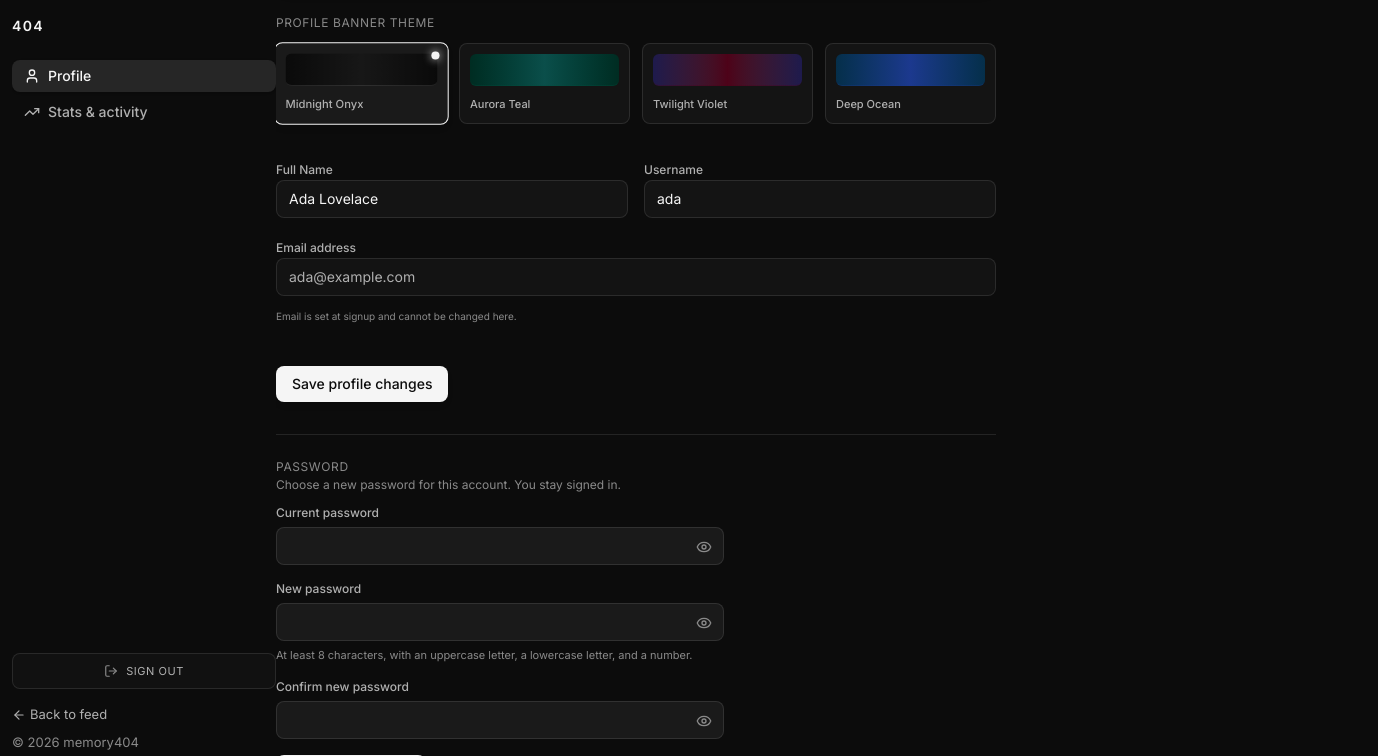
Scenario: settings actions after the session expires › explains when the profile save never reaches the server
This screenshot has width=1378, height=756.
(page scrolled)
Expected: the field showing "Ada Lovelace" is shown, [276, 180, 628, 218]
Click the button "Save profile changes".
click(362, 384)  # box [276, 366, 448, 402]
(page scrolled)
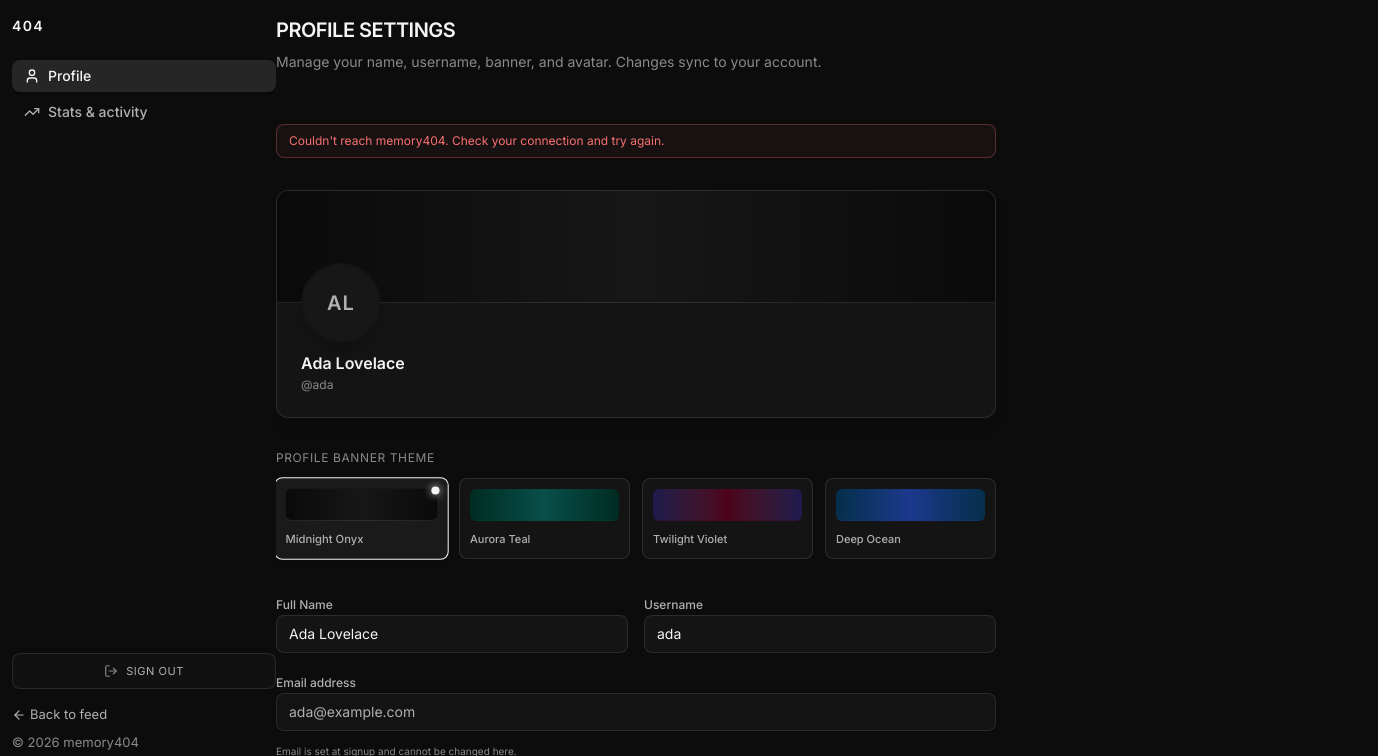
Expected: the message reads "Couldn't reach memory404. Check your connection and try again.", [289, 133, 664, 148]
